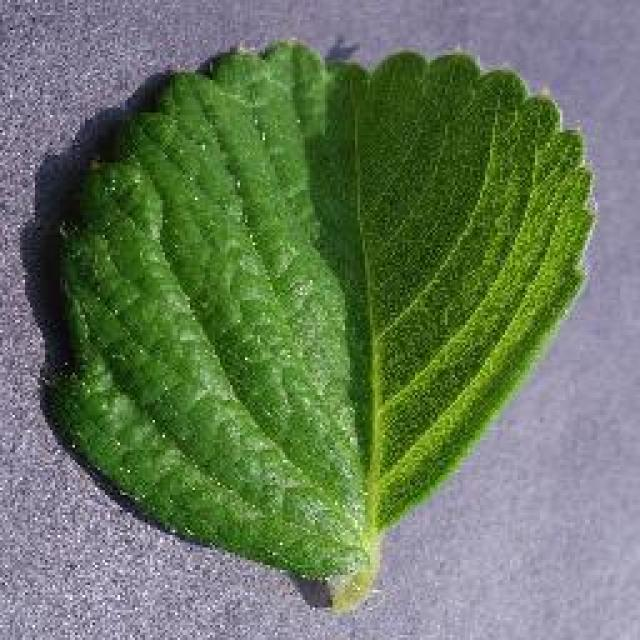Strawberry___healthy: (69, 53, 579, 566)
